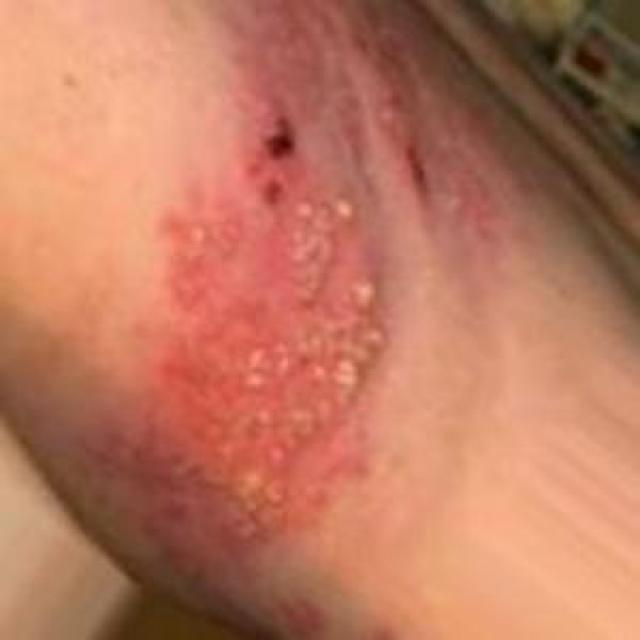Shingles: (155, 112, 393, 543)
